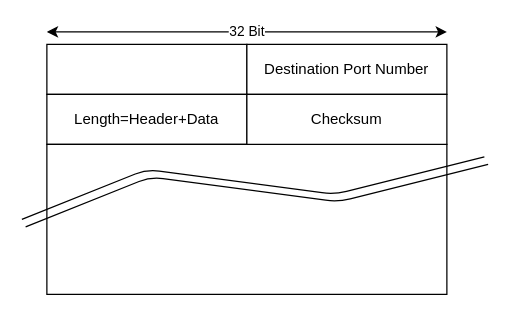
Some shapes in this 511 by 316 pixel diagram are drawn without their labels. Each missing label, with the centre of its shape:
"Payload" variable length: (246,218)
Source Port Number: (146,68)
